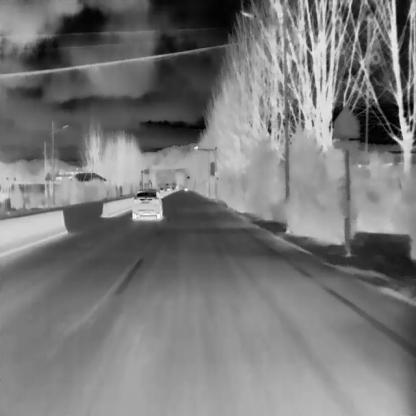car: (132, 189, 162, 219)
